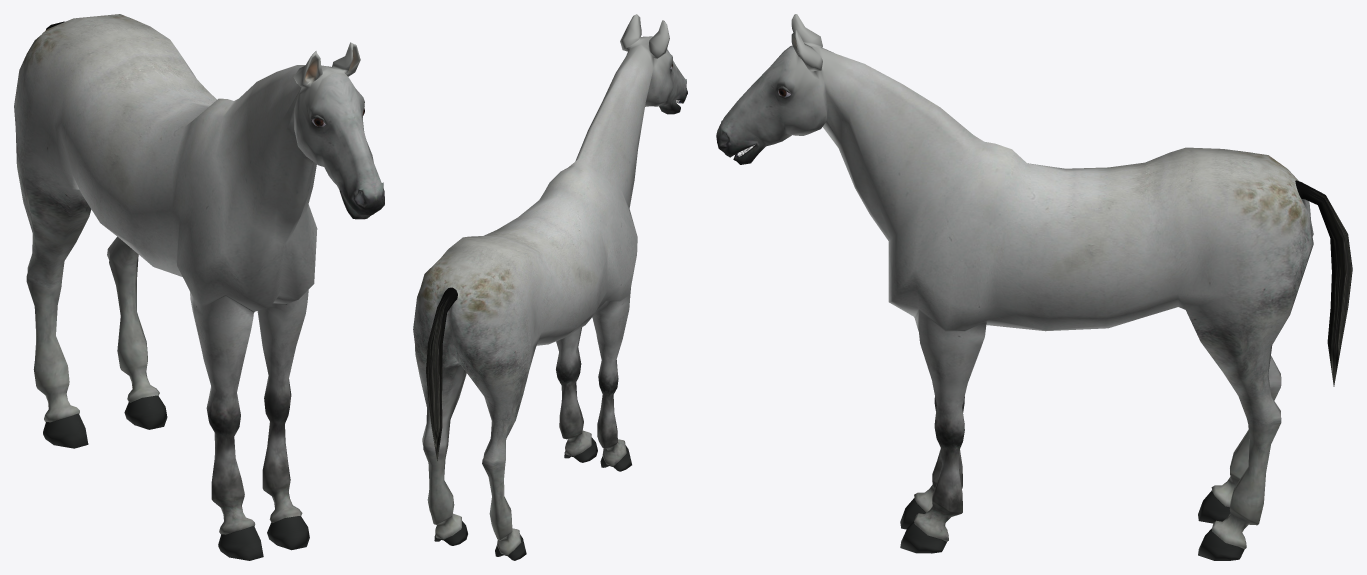
File: horse.gltf
The picture shows the model from 3 angles, left to right: view 1: azimuth 30°, elevation 25°; view 2: azimuth 150°, elevation 25°; view 3: azimuth 270°, elevation 25°; orthographic projection. The views are drawn at different scales.
Parts seen in each view (by area): view 1: Horse; view 2: Horse; view 3: Horse.
Boxes of the visible parts, x1,y1,x2,y2 form: Horse: [14, 14, 384, 560]; Horse: [413, 14, 687, 560]; Horse: [716, 14, 1352, 560].
Size of the model in its own units: 2.23 by 7.92 by 8.9.
4 materials, 2 textured.
